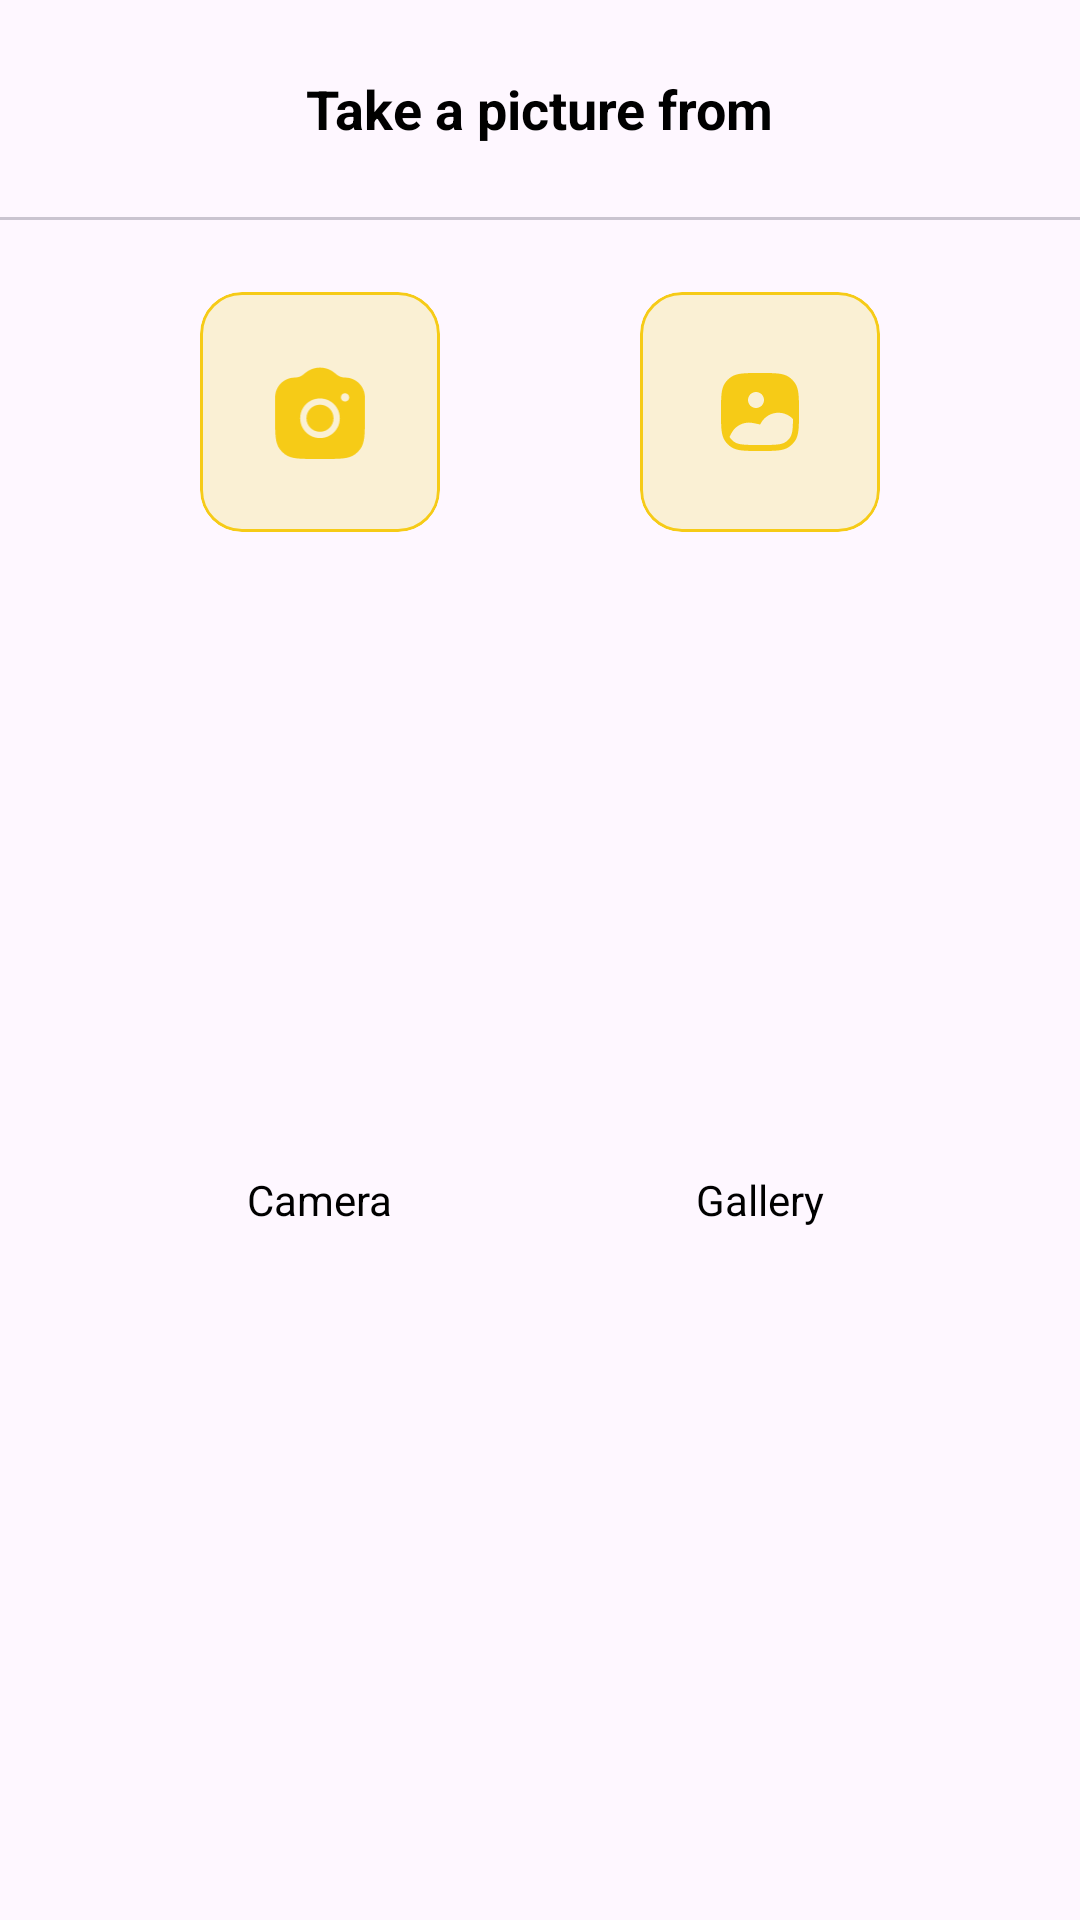

Where icons sit on this 1080 x 1920 app screen, as (left=x1, top=y1, right=x2, bottom=y2):
camera: (left=200, top=292, right=440, bottom=532)
gallery: (left=640, top=292, right=880, bottom=532)
